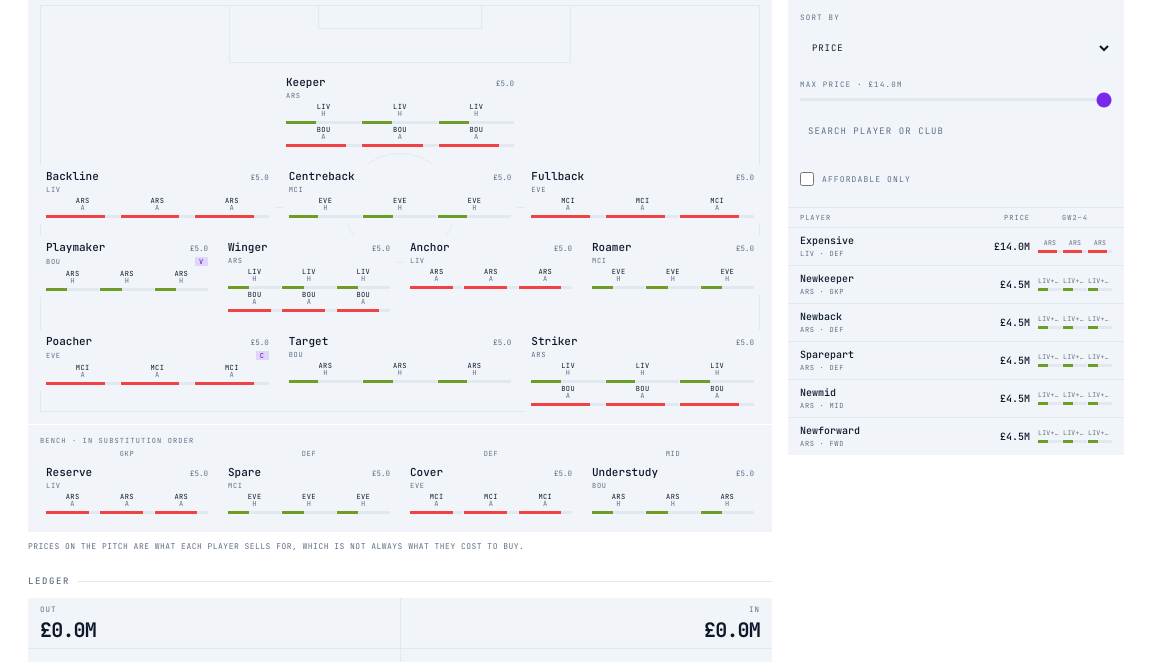
Test: the armbands › names a benched captain instead of quietly reassigning it
The image size is (1152, 662).
(page scrolled)
Expected: the button "Keeper £5.0 ARS LIV H BOU A LIV H BOU A LIV H BOU A" is shown, [280,71,520,153]
Note: Bench the captain by swapping them with a substitute.
Click the button "Poacher £5.0 EVE C MCI A MCI A MCI A" at (157, 360), box [40,330,275,391]
(page scrolled)
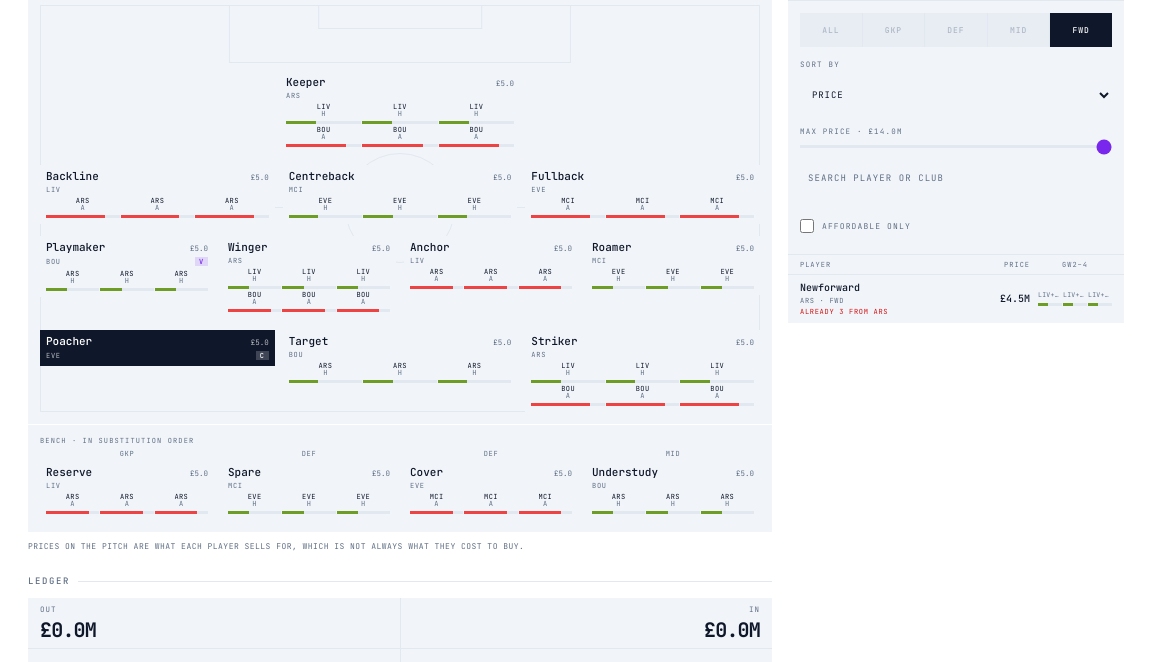
Click the button "Understudy £5.0 BOU ARS H ARS H ARS H" at (673, 490), box [586,461,760,520]
(page scrolled)
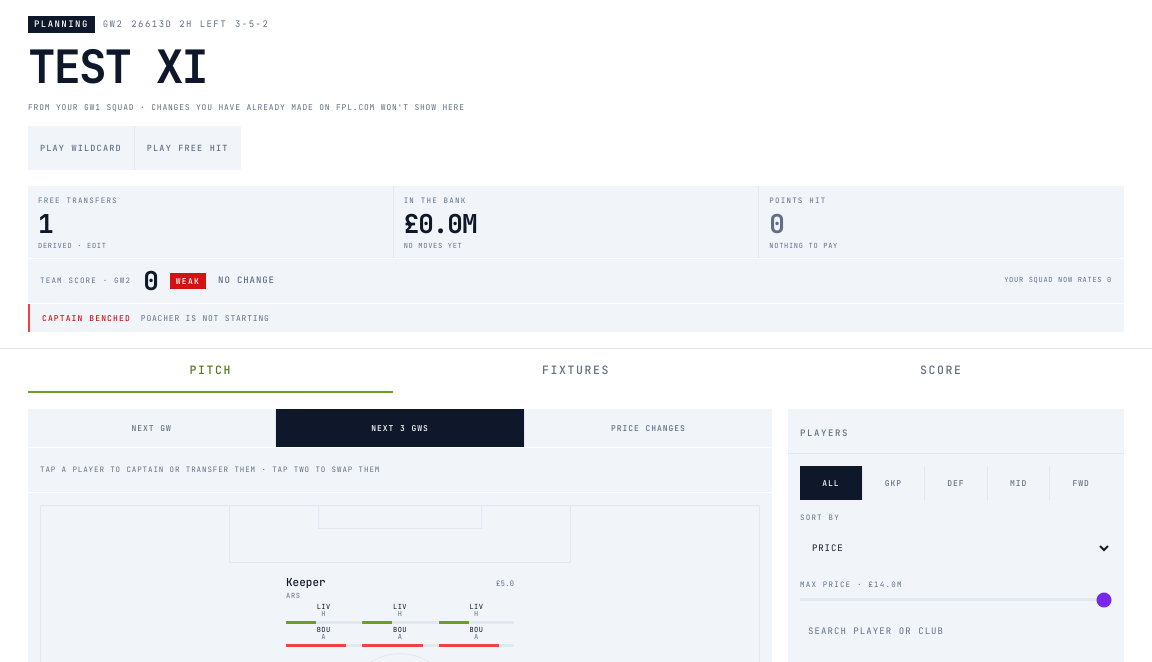
Now the text "CAPTAIN BENCHED" is shown, box [42,314,131,322]
